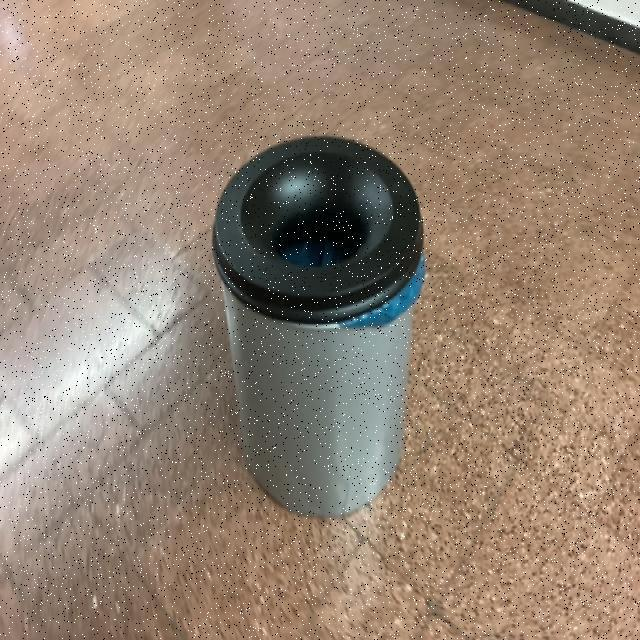garbage container: (189, 101, 438, 536)
